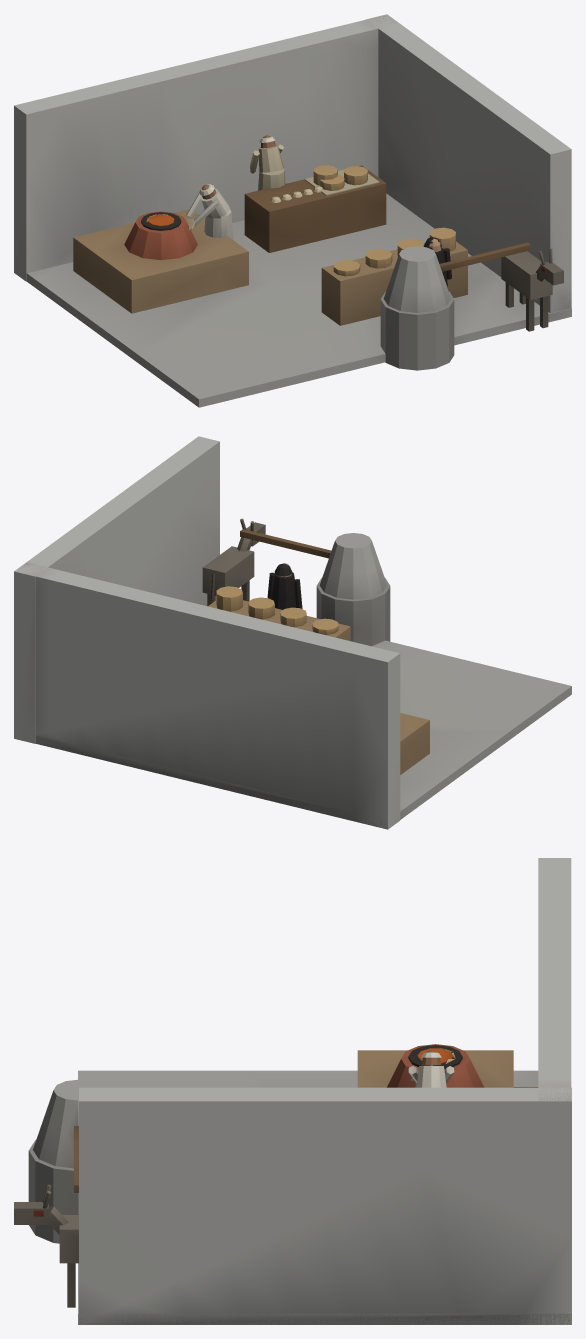
File: bakery.glb
3 views of the same model, one above another, from view 1: azimuth 30°, elevation 25°; view 2: azimuth 150°, elevation 25°; view 3: azimuth 270°, elevation 25° (orthographic). The views are drawn at different scales.
Visible parts, largest first — view 1: base, anim_spin; view 2: base, anim_spin; view 3: base, anim_spin.
Part boxes in pixels (x1,y1,x2,y2): base: (14,14,571,407); anim_spin: (380,242,563,370); base: (14,436,571,829); anim_spin: (202,518,390,646); base: (78,858,571,1324); anim_spin: (14,1079,100,1307).
Bounding box in the file's own units: 7.01 × 3.01 × 6.79.
